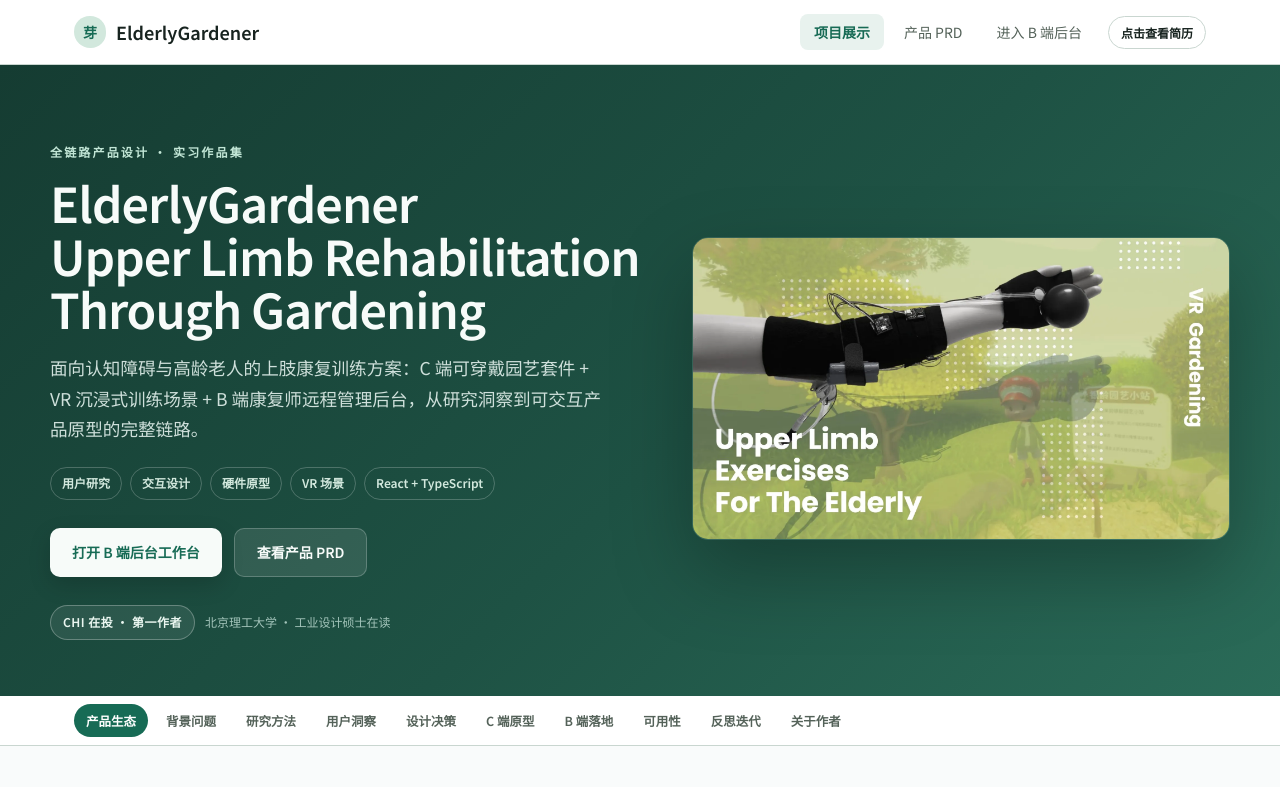
Scenario: App › navigates to the B-side dashboard and has no detectable accessibility violations
The image size is (1280, 787).
Click the link "进入 B 端后台" at (1039, 32), box x1=996 y1=22 x2=1082 y2=42
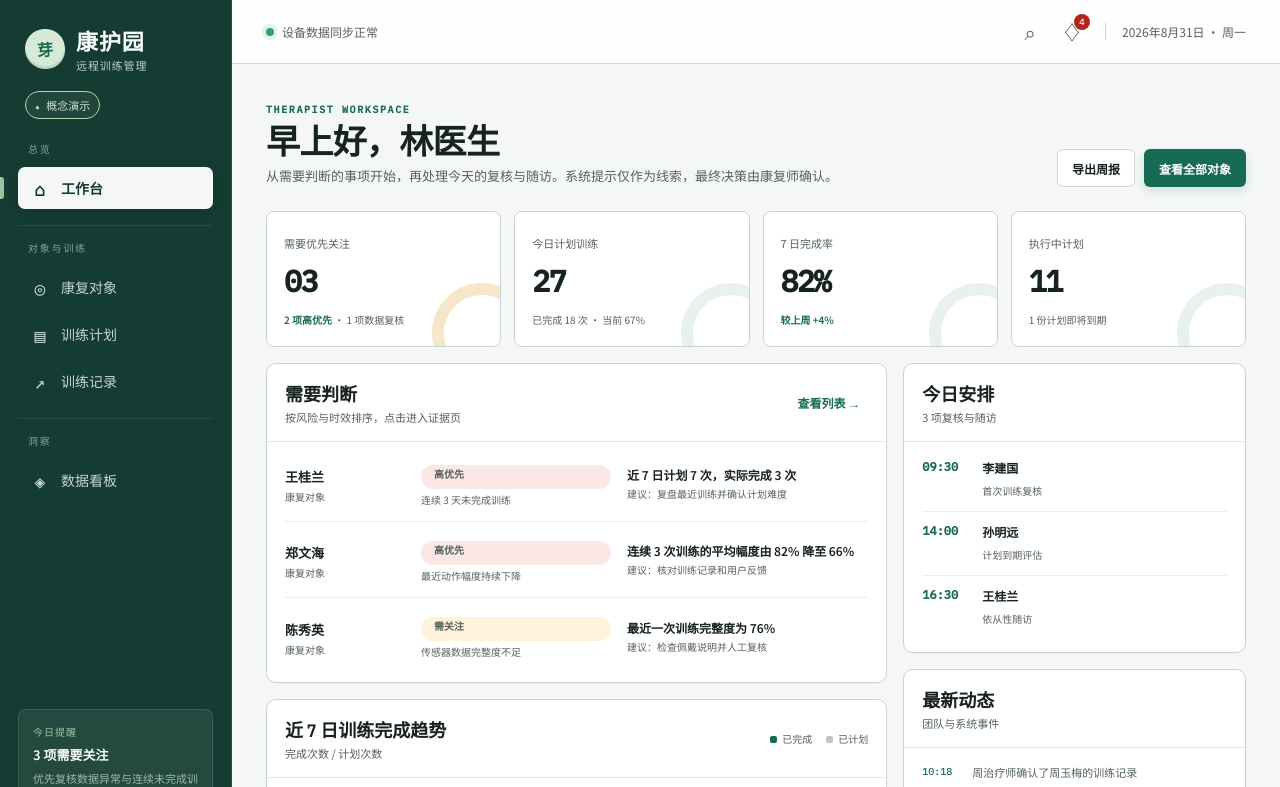
expect the heading "早上好，林医生" is shown: met, box x1=266 y1=119 x2=499 y2=163
